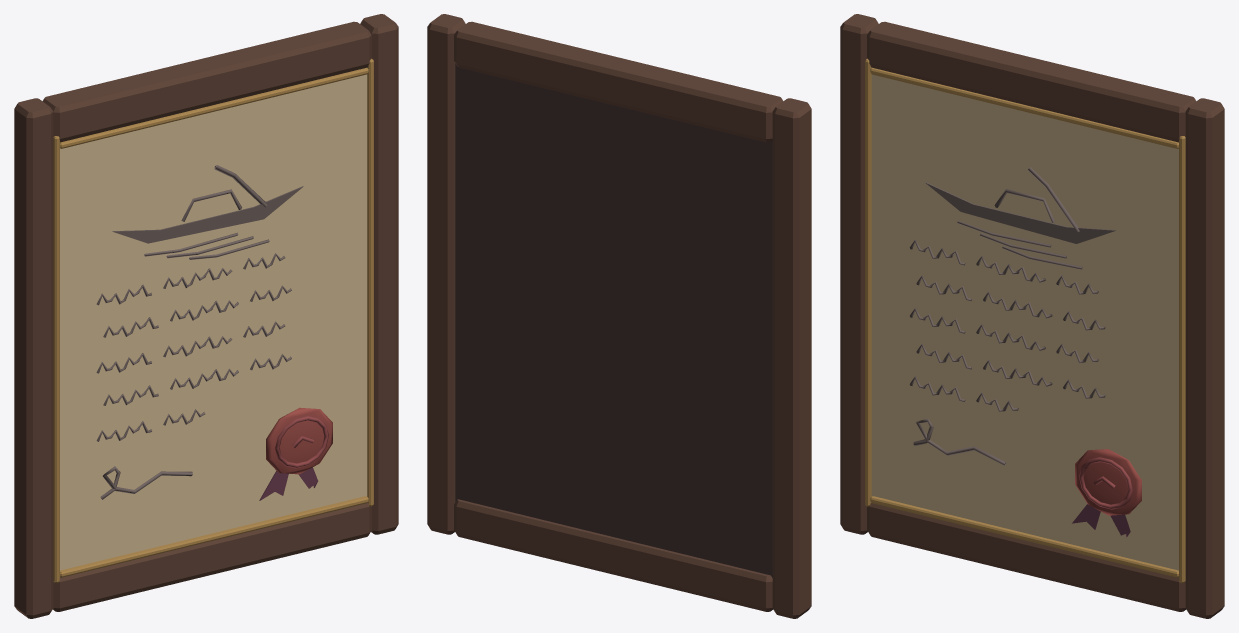
File: ferry_contract.glb
The picture shows the model from 3 angles, left to right: view 1: azimuth 30°, elevation 25°; view 2: azimuth 150°, elevation 25°; view 3: azimuth 330°, elevation 25°; orthographic projection.
Parts seen in each view (by area): view 1: ferry_contract; view 2: ferry_contract; view 3: ferry_contract.
Part boxes in pixels (x1,y1,x2,y2): ferry_contract: (14, 14, 398, 618); ferry_contract: (427, 14, 811, 618); ferry_contract: (840, 14, 1224, 618).
Bounding box in the file's own units: 0.5 × 0.65 × 0.05.
